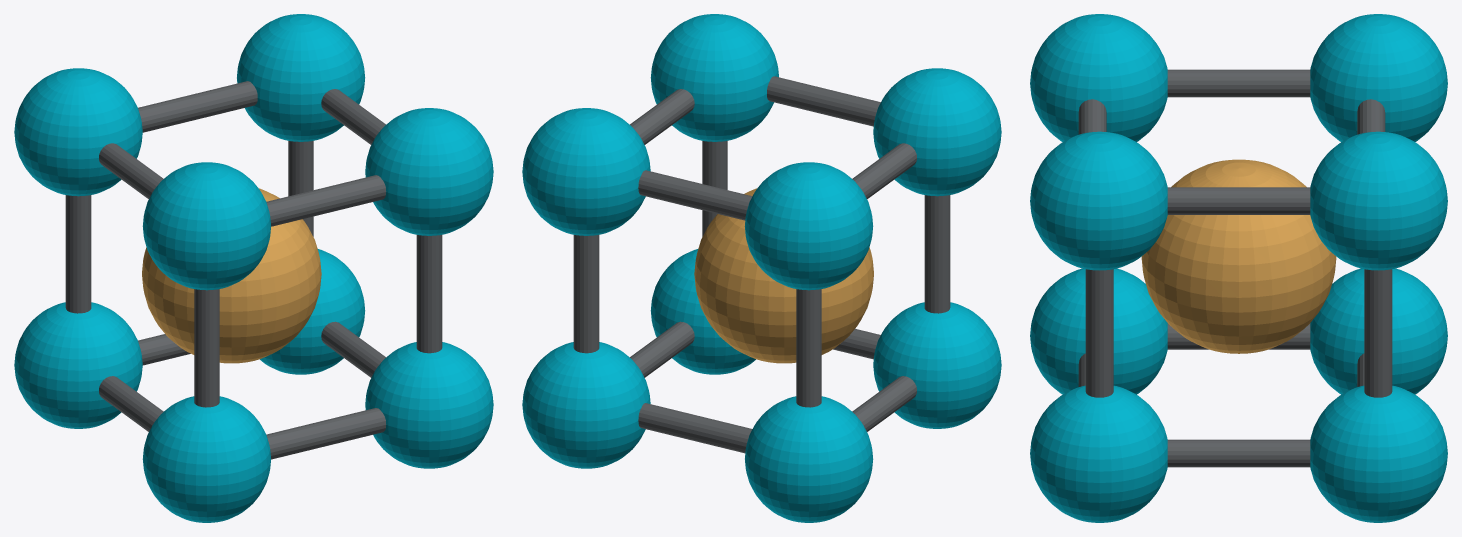
The model's file is estrutura02.glb.
The picture shows the model from 3 angles, left to right: view 1: azimuth 30°, elevation 25°; view 2: azimuth 150°, elevation 25°; view 3: azimuth 270°, elevation 25°; orthographic projection. The views are drawn at different scales.
Parts seen in each view (by area): view 1: Mesh_Mesh_head_geo.001_lambert2SG.001; view 2: Mesh_Mesh_head_geo.001_lambert2SG.001; view 3: Mesh_Mesh_head_geo.001_lambert2SG.001.
Part boxes in pixels (x1,y1,x2,y2): Mesh_Mesh_head_geo.001_lambert2SG.001: (14,14,493,522); Mesh_Mesh_head_geo.001_lambert2SG.001: (522,14,1001,522); Mesh_Mesh_head_geo.001_lambert2SG.001: (1030,14,1447,522).
Bounding box in the file's own units: 30 × 30 × 30.
